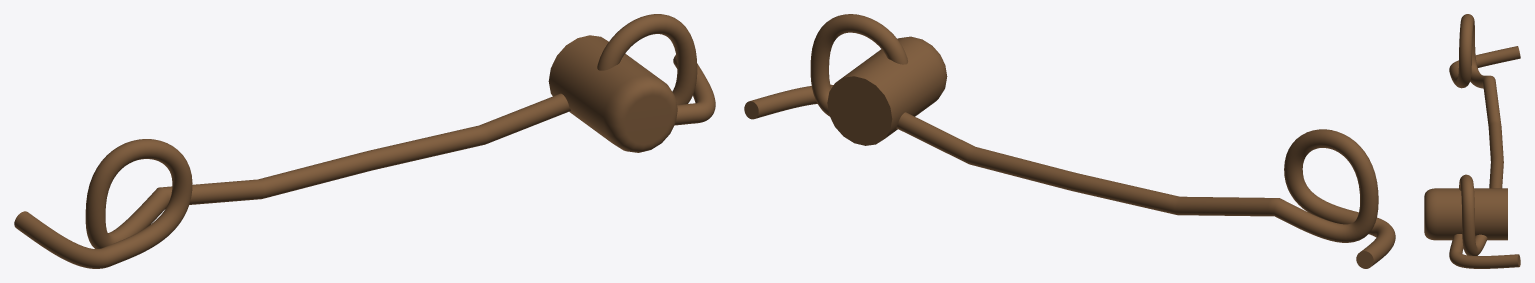
Rendered from bollard_rope.glb.
The picture shows the model from 3 angles, left to right: view 1: azimuth 30°, elevation 25°; view 2: azimuth 150°, elevation 25°; view 3: azimuth 270°, elevation 25°; orthographic projection. The views are drawn at different scales.
Visible parts, largest first — view 1: bollard_rope; view 2: bollard_rope; view 3: bollard_rope.
Boxes of the visible parts, box(x1,y1,x2,y2) form: bollard_rope: box(14, 14, 715, 268); bollard_rope: box(744, 14, 1395, 268); bollard_rope: box(1424, 14, 1520, 268).
Bounding box in the file's own units: 1.2 × 0.1869 × 0.2284.
